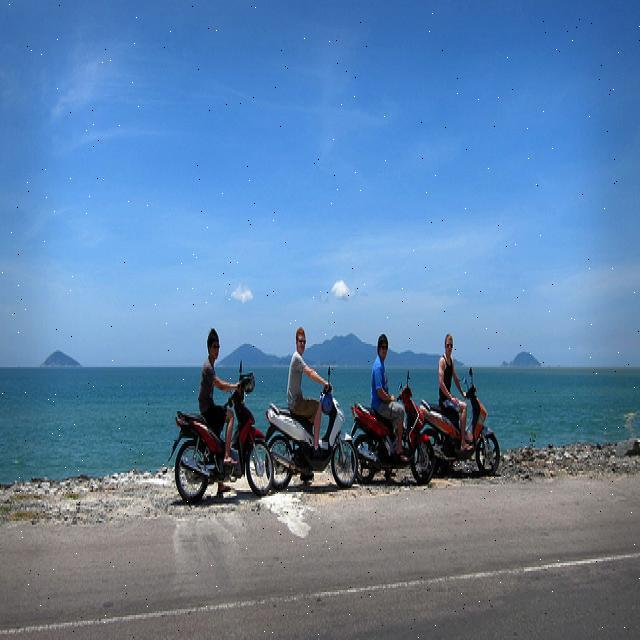motorcycle: (166, 380, 274, 503), (262, 389, 363, 495), (346, 390, 436, 489), (416, 390, 508, 480)
